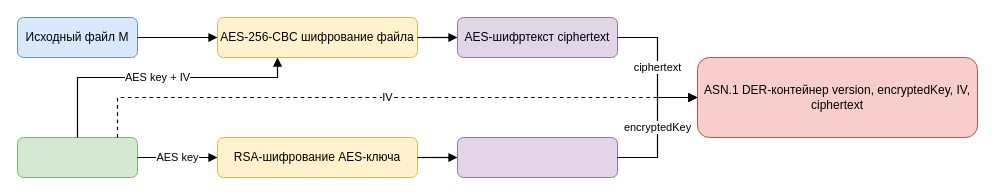
The diagram is 995 pixels wide and 195 high, and some of its shapes have lost their labels. Each missing label, with the centre of its shape:
"RSA-encrypted AES key" belongs at pixel 537 157.
"Случайные значения AES key, IV" belongs at pixel 77 157.
